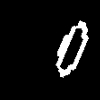chain: (56, 21, 88, 76)
